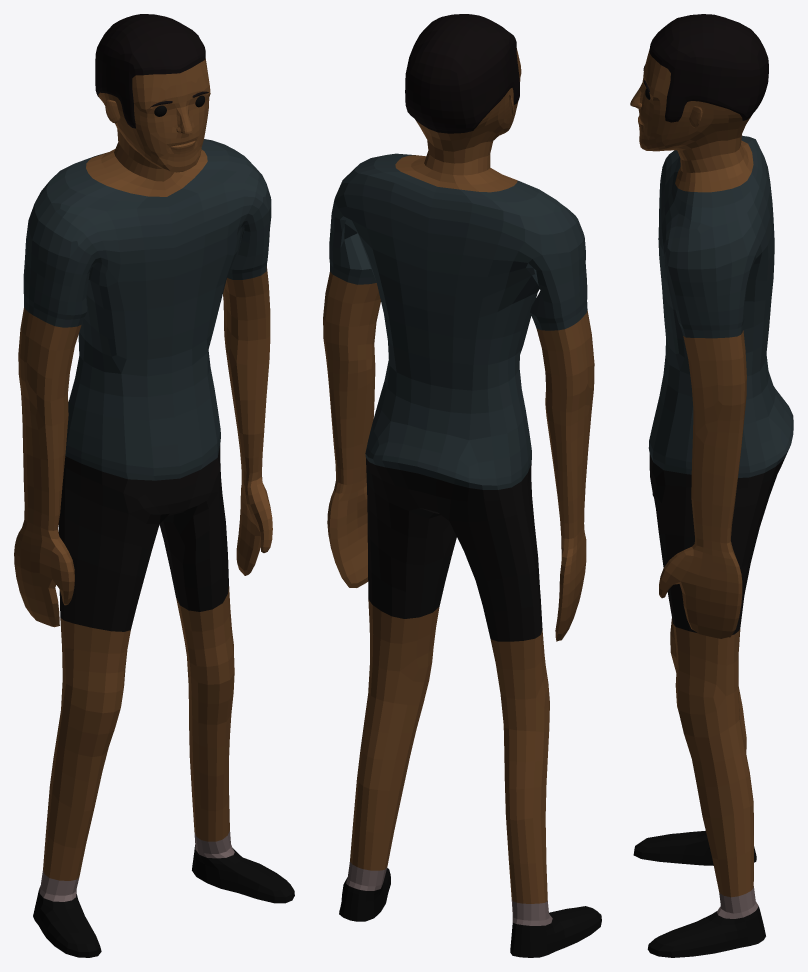
File: Smooth_Male_Casual.obj
3 renders of one model, left to right at view 1: azimuth 30°, elevation 25°; view 2: azimuth 150°, elevation 25°; view 3: azimuth 270°, elevation 25°, orthographic. The views are drawn at different scales.
Visible parts, largest first — view 1: BaseHuman_Cylinder.002; view 2: BaseHuman_Cylinder.002; view 3: BaseHuman_Cylinder.002.
Part boxes in pixels (box(x1,y1,x2,y2)): BaseHuman_Cylinder.002: box(14, 14, 294, 957); BaseHuman_Cylinder.002: box(323, 14, 601, 957); BaseHuman_Cylinder.002: box(630, 14, 793, 957).
Size of the model in its own units: 1.41 by 4.82 by 0.8121.
